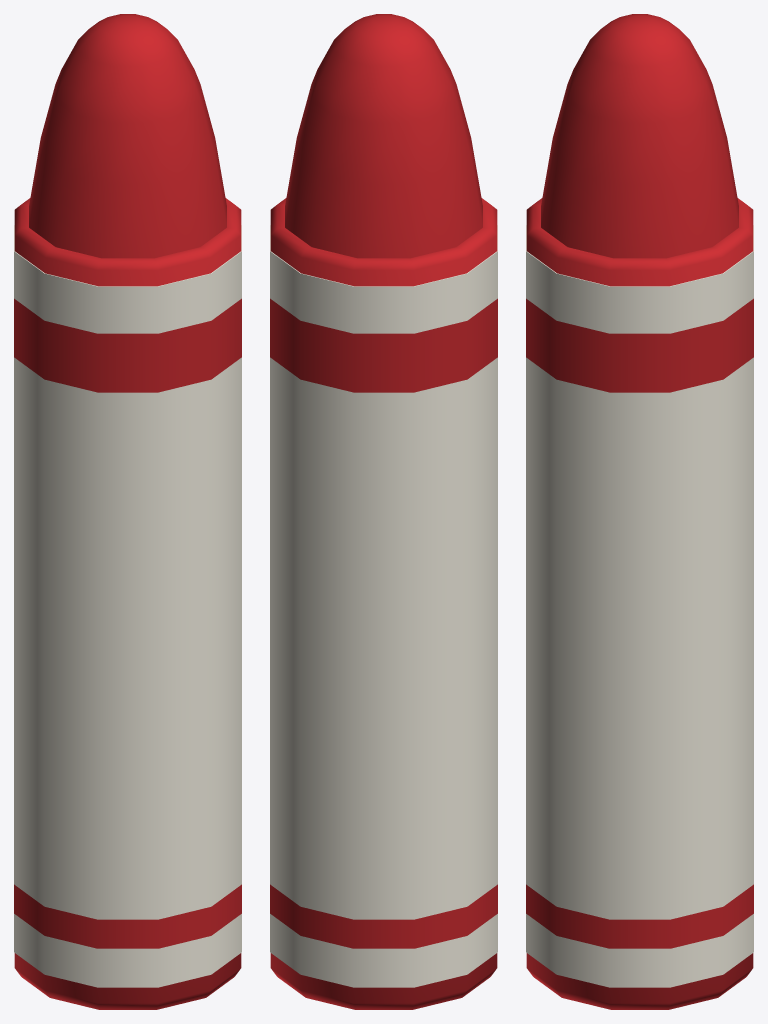
Rendered from crayon.fbx.
The picture shows the model from 3 angles, left to right: view 1: azimuth 30°, elevation 25°; view 2: azimuth 150°, elevation 25°; view 3: azimuth 270°, elevation 25°; orthographic projection.
Visible parts, largest first — view 1: crayon; view 2: crayon; view 3: crayon.
Boxes of the visible parts, box(x1,y1,x2,y2) form: crayon: box(14, 14, 241, 1009); crayon: box(270, 14, 497, 1009); crayon: box(526, 14, 753, 1009).
Bounding box in the file's own units: 0.1891 × 0.8639 × 0.1891.
